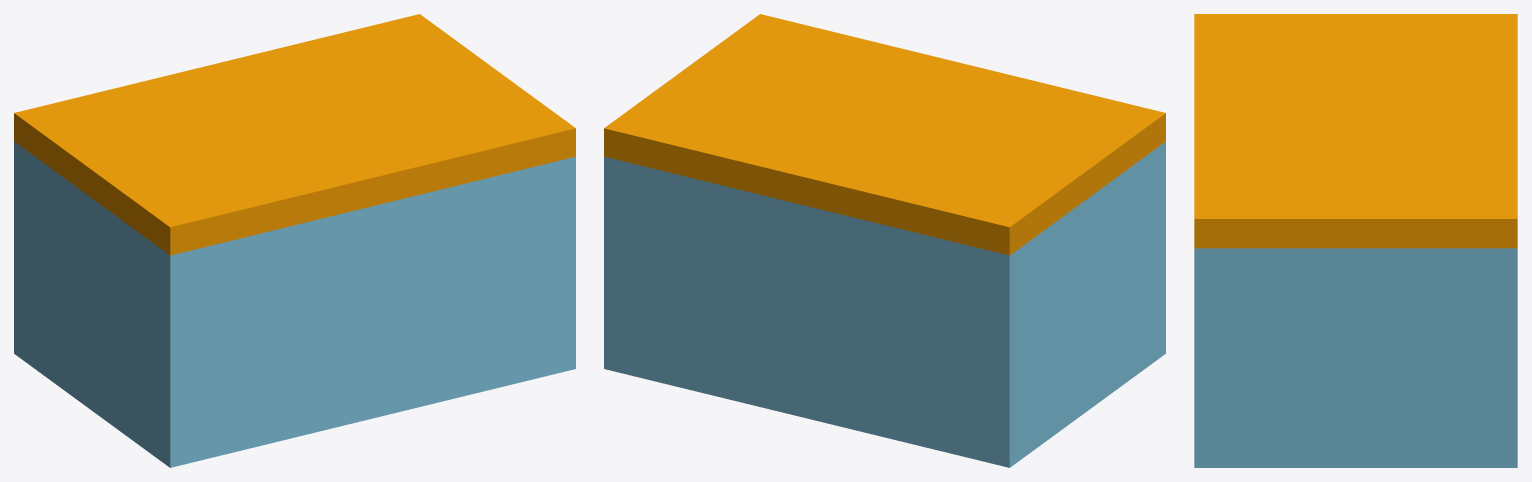
Rendered from mate_sistemi_ornegi.gltf.
3 views of the same model, side by side, from view 1: azimuth 30°, elevation 25°; view 2: azimuth 150°, elevation 25°; view 3: azimuth 270°, elevation 25° (orthographic). The views are drawn at different scales.
Visible parts, largest first — view 1: kutu_part, kapak_part; view 2: kutu_part, kapak_part; view 3: kapak_part, kutu_part.
Boxes of the visible parts, x1,y1,x2,y2 form: kutu_part: (14,141,575,467); kapak_part: (14,14,575,255); kutu_part: (604,141,1165,467); kapak_part: (604,14,1165,255); kapak_part: (1194,14,1517,248); kutu_part: (1194,248,1517,467).
Bounding box in the file's own units: 60 × 34 × 40.
